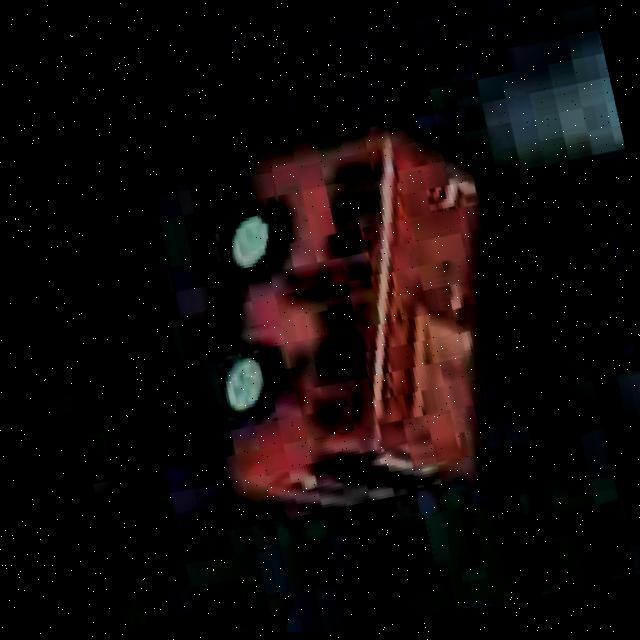bus: (132, 93, 557, 545)
